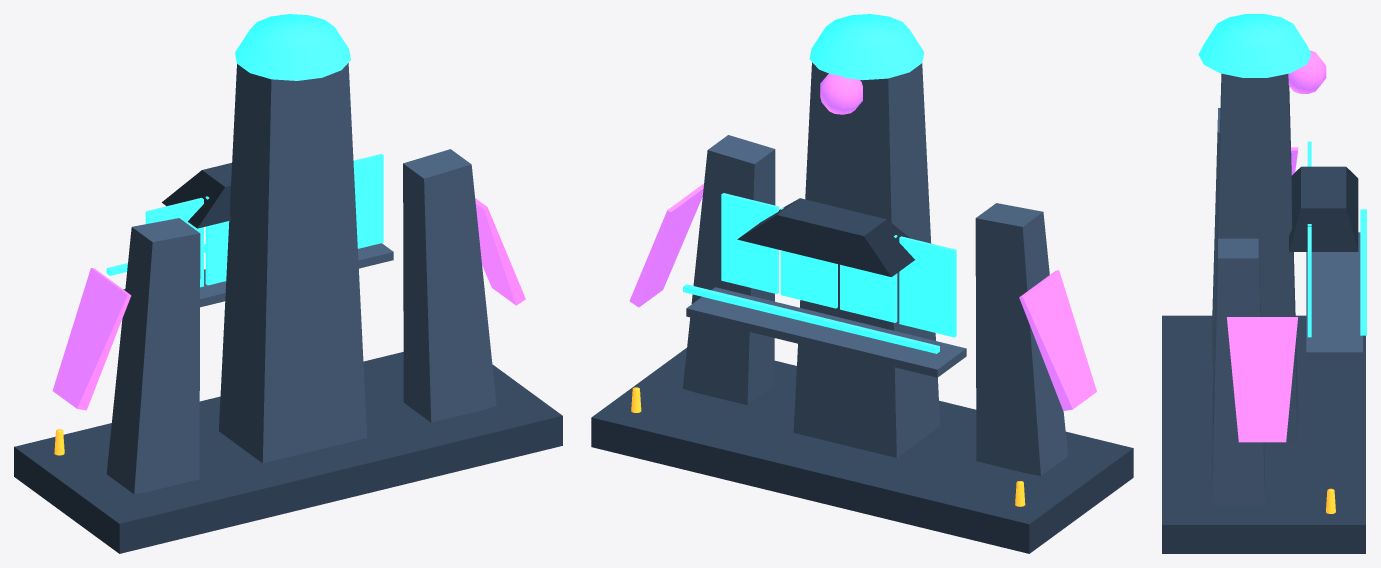
File: command-horizon-command-deck-lod1.glb
The picture shows the model from 3 angles, left to right: view 1: azimuth 30°, elevation 25°; view 2: azimuth 150°, elevation 25°; view 3: azimuth 270°, elevation 25°; orthographic projection. The views are drawn at different scales.
Parts seen in each view (by area): view 1: deck-main-tower, deck-foundation, deck-wing--1, deck-wing-1, deck-crown, deck-fin--1, deck-facade-3, deck-canopy, deck-fin-1, deck-facade-1, deck-balcony, deck-facade-0; view 2: deck-foundation, deck-main-tower, deck-wing--1, deck-wing-1, deck-canopy, deck-balcony, deck-crown, deck-fin--1, deck-facade-0, deck-facade-3, deck-fin-1, deck-facade-1 (+4 smaller); view 3: deck-foundation, deck-main-tower, deck-wing-1, deck-fin-1, deck-balcony, deck-canopy, deck-crown, deck-holo-core, deck-wing--1, deck-facade-3.
Part boxes in pixels (left/top/right/bottom): deck-main-tower: left=219, top=63, right=367, bottom=463; deck-foundation: left=14, top=352, right=562, bottom=553; deck-wing--1: left=106, top=218, right=200, bottom=494; deck-wing-1: left=403, top=149, right=496, bottom=422; deck-crown: left=235, top=14, right=350, bottom=80; deck-fin--1: left=52, top=268, right=131, bottom=410; deck-facade-3: left=353, top=154, right=383, bottom=248; deck-canopy: left=162, top=163, right=231, bottom=228; deck-fin-1: left=475, top=198, right=525, bottom=305; deck-facade-1: left=205, top=196, right=229, bottom=285; deck-balcony: left=123, top=243, right=393, bottom=307; deck-facade-0: left=145, top=197, right=203, bottom=287; deck-foundation: left=591, top=348, right=1133, bottom=553; deck-main-tower: left=793, top=62, right=940, bottom=457; deck-wing--1: left=975, top=203, right=1067, bottom=475; deck-wing-1: left=683, top=135, right=775, bottom=405; deck-canopy: left=737, top=198, right=914, bottom=276; deck-balcony: left=686, top=287, right=966, bottom=377; deck-crown: left=809, top=14, right=924, bottom=80; deck-fin--1: left=1019, top=270, right=1096, bottom=410; deck-facade-0: left=899, top=236, right=956, bottom=337; deck-facade-3: left=721, top=193, right=778, bottom=293; deck-fin-1: left=629, top=183, right=703, bottom=307; deck-facade-1: left=840, top=235, right=897, bottom=322; deck-foundation: left=1162, top=315, right=1365, bottom=553; deck-main-tower: left=1212, top=73, right=1297, bottom=444; deck-wing-1: left=1212, top=238, right=1264, bottom=504; deck-fin-1: left=1227, top=317, right=1297, bottom=442; deck-balcony: left=1306, top=232, right=1362, bottom=360; deck-canopy: left=1289, top=166, right=1358, bottom=251; deck-crown: left=1198, top=14, right=1311, bottom=77; deck-holo-core: left=1288, top=50, right=1326, bottom=93; deck-wing--1: left=1212, top=108, right=1220, bottom=365; deck-facade-3: left=1307, top=226, right=1311, bottom=337.
Size of the model in its own units: 6.89 by 6.33 by 2.81.
